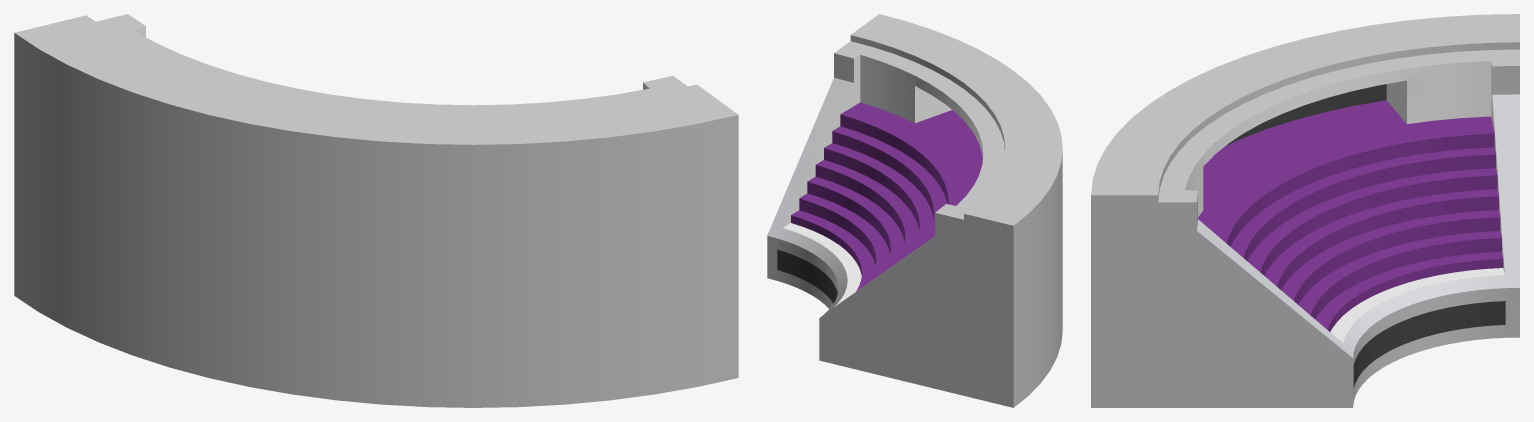
The model's file is grand-stand-round.glb.
3 renders of one model, left to right at view 1: azimuth 30°, elevation 25°; view 2: azimuth 150°, elevation 25°; view 3: azimuth 270°, elevation 25°, orthographic. The views are drawn at different scales.
Visible parts, largest first — view 1: grandStandRound; view 2: grandStandRound; view 3: grandStandRound.
Part boxes in pixels (x1,y1,x2,y2): grandStandRound: [14, 14, 738, 407]; grandStandRound: [767, 14, 1062, 407]; grandStandRound: [1091, 14, 1519, 407].
Bounding box in the file's own units: 1.64 × 0.8963 × 1.64.
